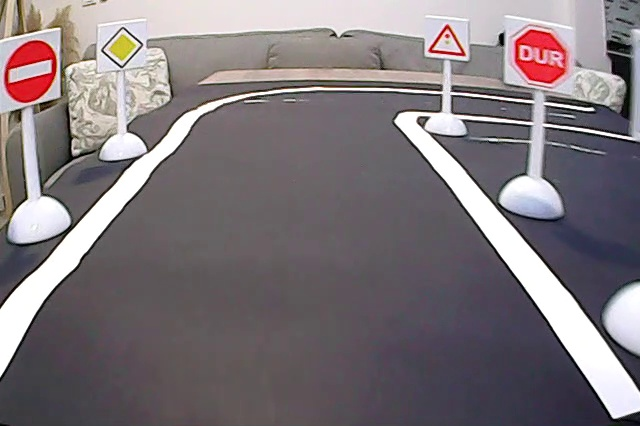do not enter: (4, 38, 59, 109)
red light: (427, 16, 474, 63)
stop sign: (506, 18, 578, 93)
